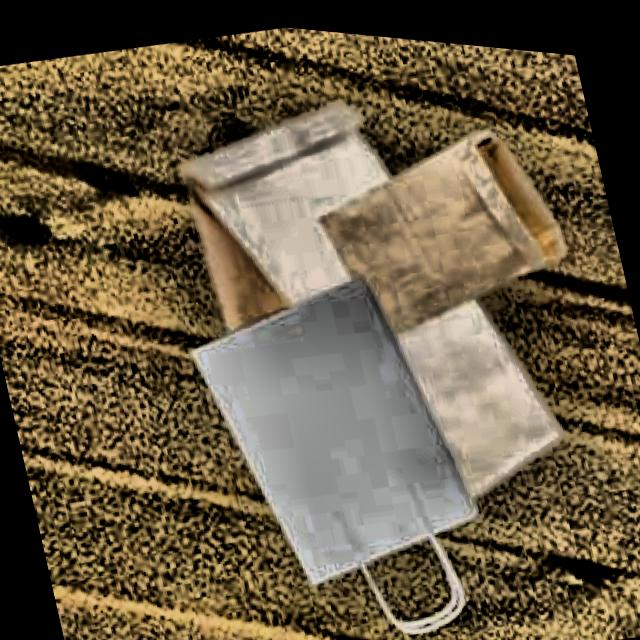Paper-bag: (159, 42, 593, 582), (159, 219, 517, 640), (295, 82, 590, 358)
